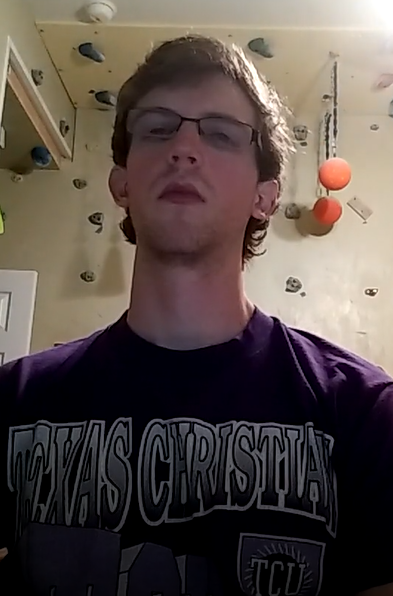Half Asleep: (130, 101, 256, 160)
